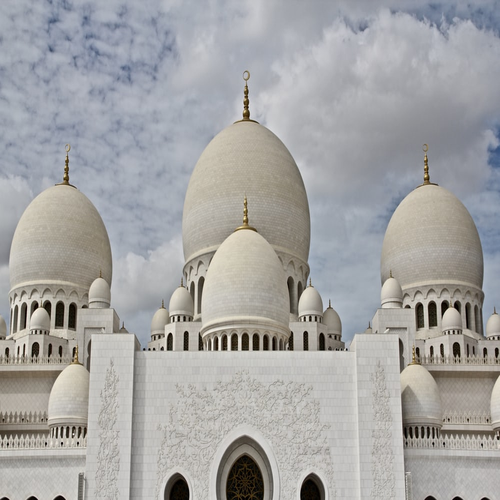Mosque: (2, 63, 498, 500)
